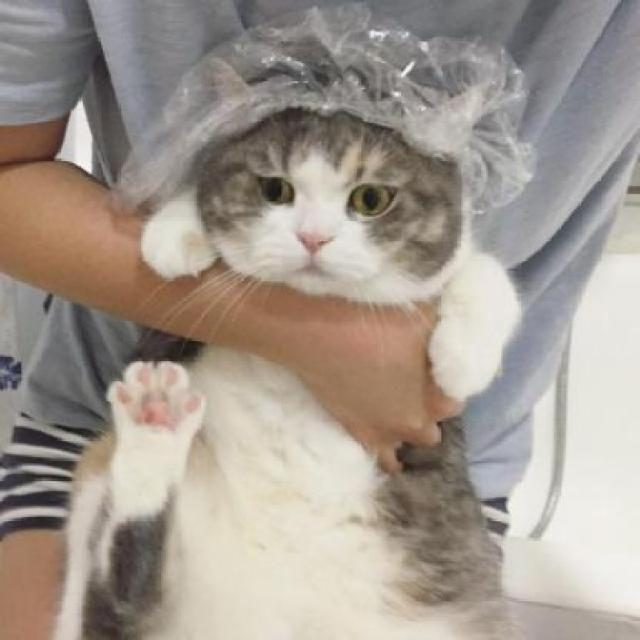cat: (51, 98, 517, 640)
